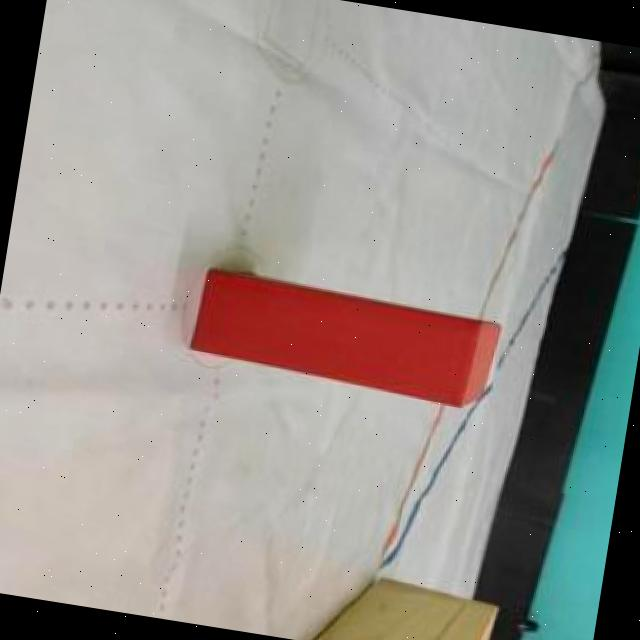redbox: (188, 266, 505, 411)
